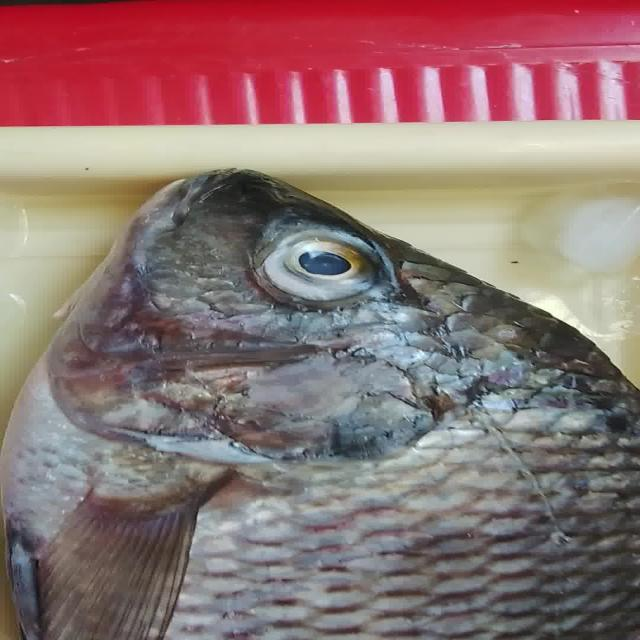Fresh: (32, 371, 549, 638), (259, 231, 391, 304)
